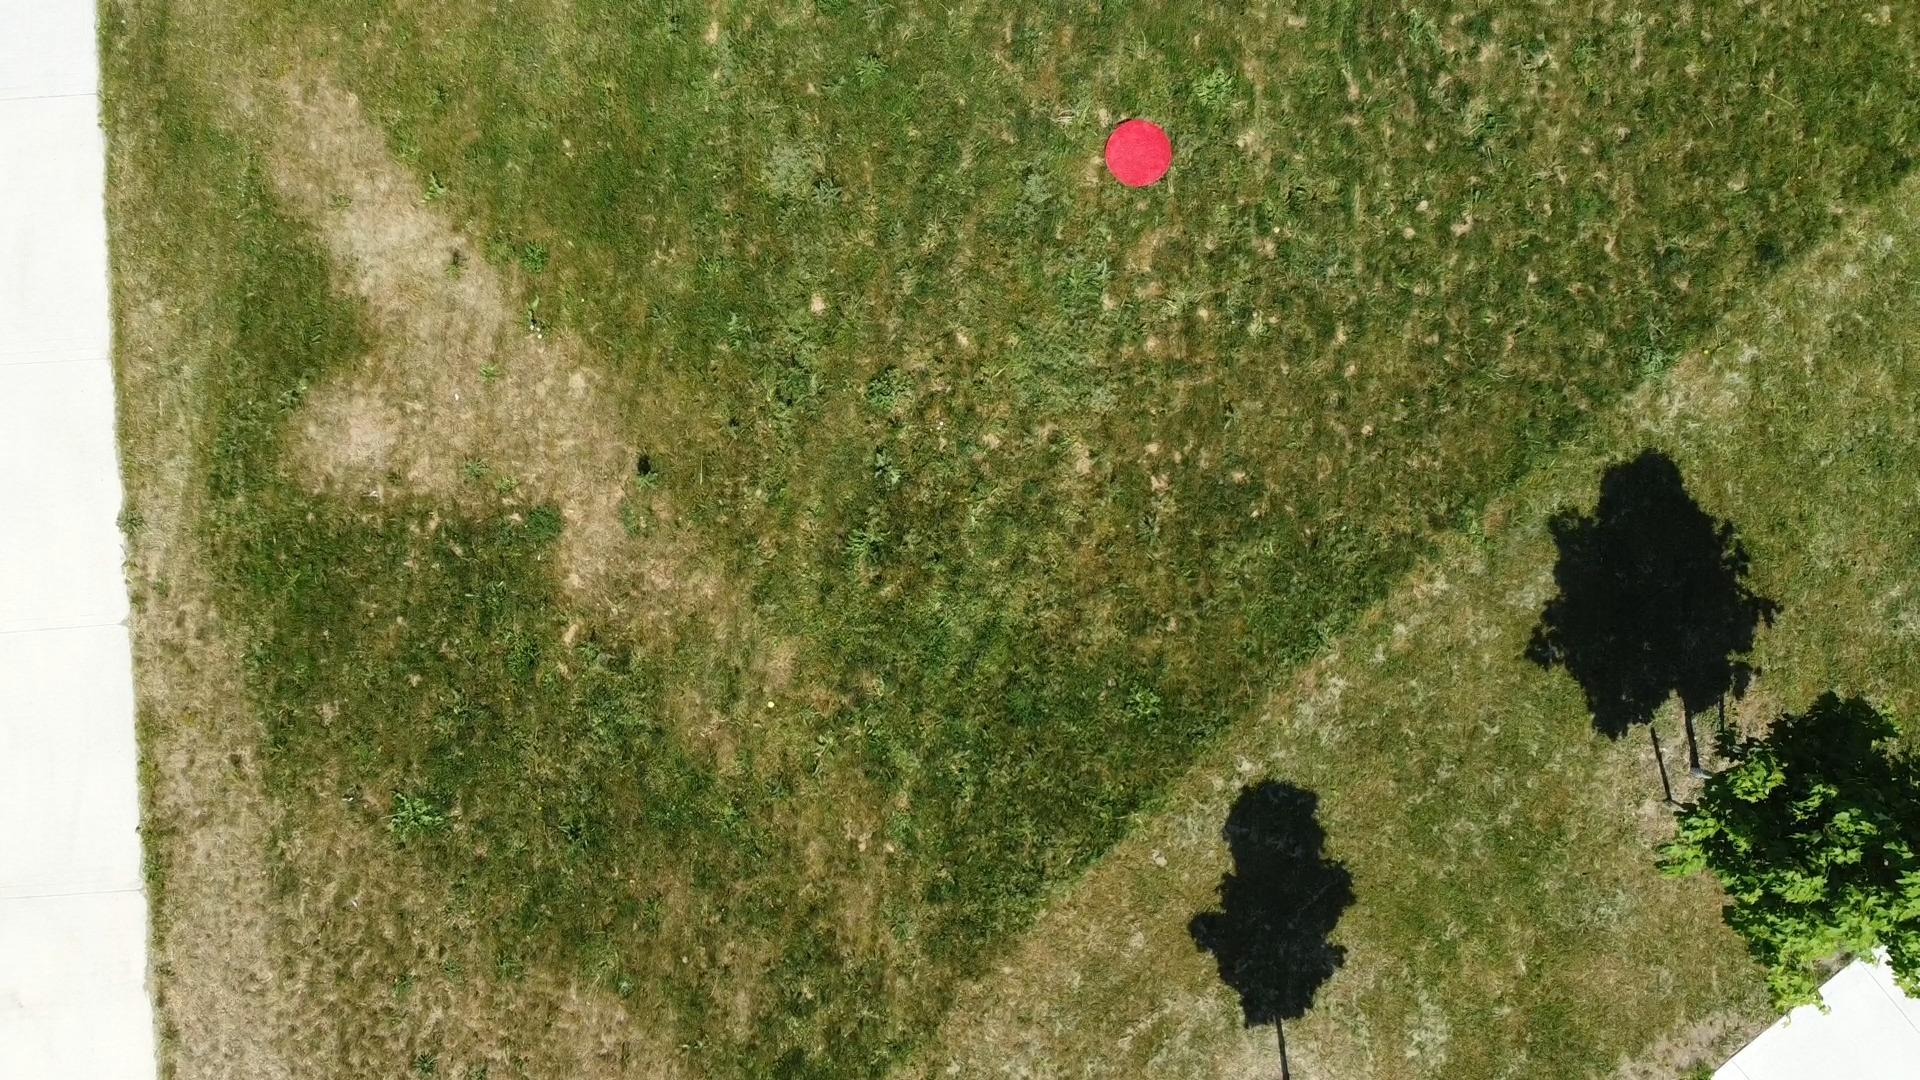Red: (1102, 116, 1176, 190)
